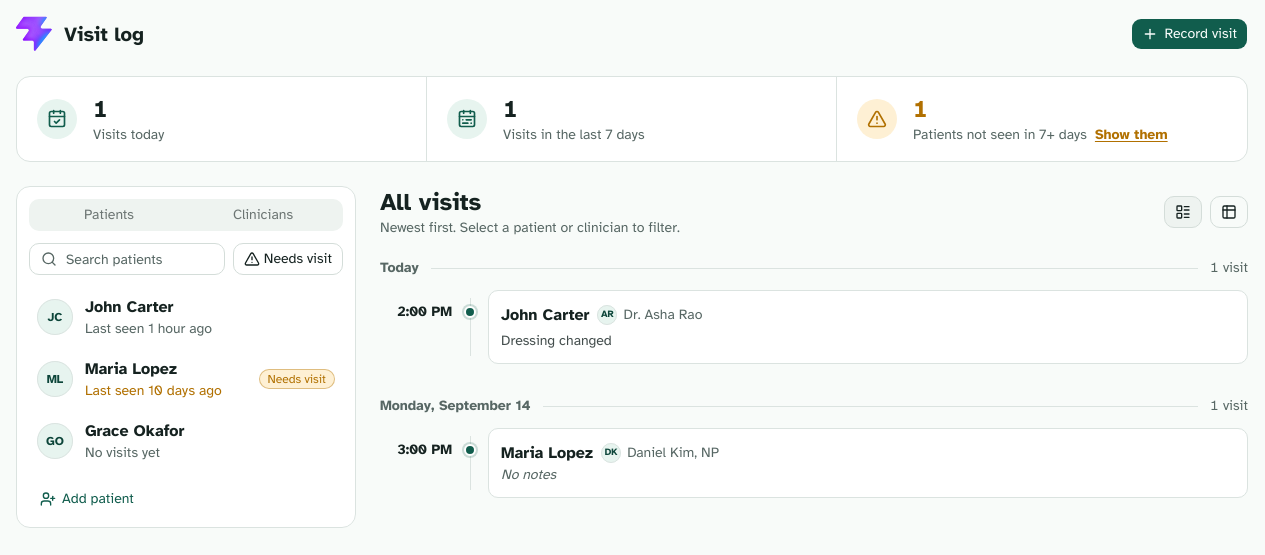
Visit log › filters by the selected patient and clears with the chip
The width and height of the screenshot is (1265, 555).
Click the button "John Carter".
click(186, 317)  # box x1=29 y1=287 x2=343 y2=347
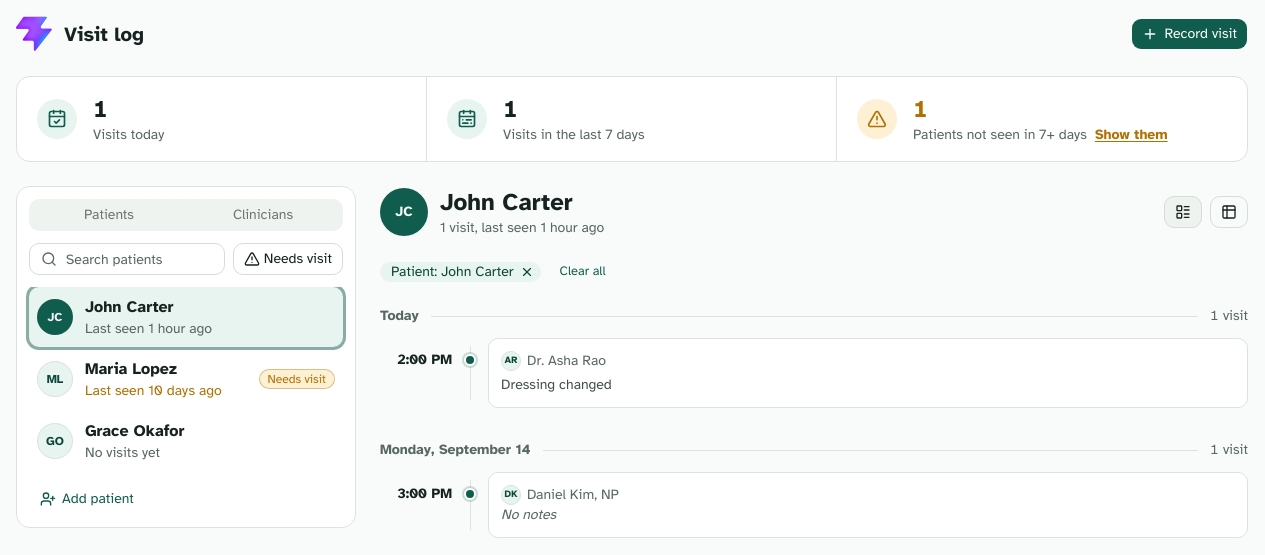
Expected: the heading "John Carter" is shown, x1=440 y1=187 x2=573 y2=217
Click the button named "remove filter patient: john carter".
click(527, 272)  # box x1=518 y1=263 x2=536 y2=281
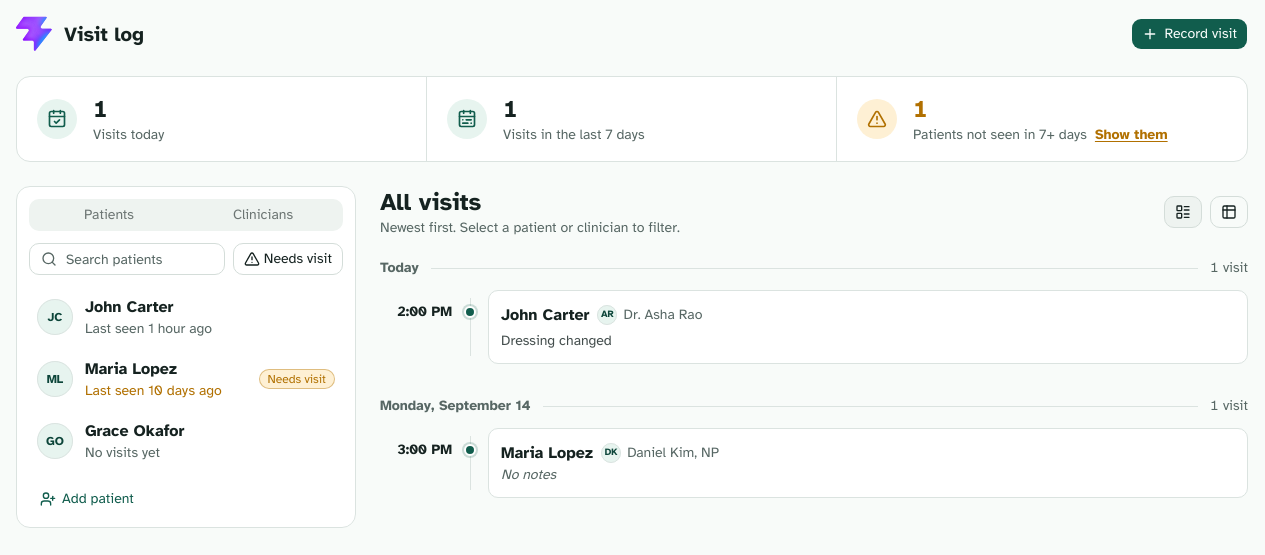
Expected: the heading "All visits" is shown, x1=380 y1=187 x2=481 y2=217
